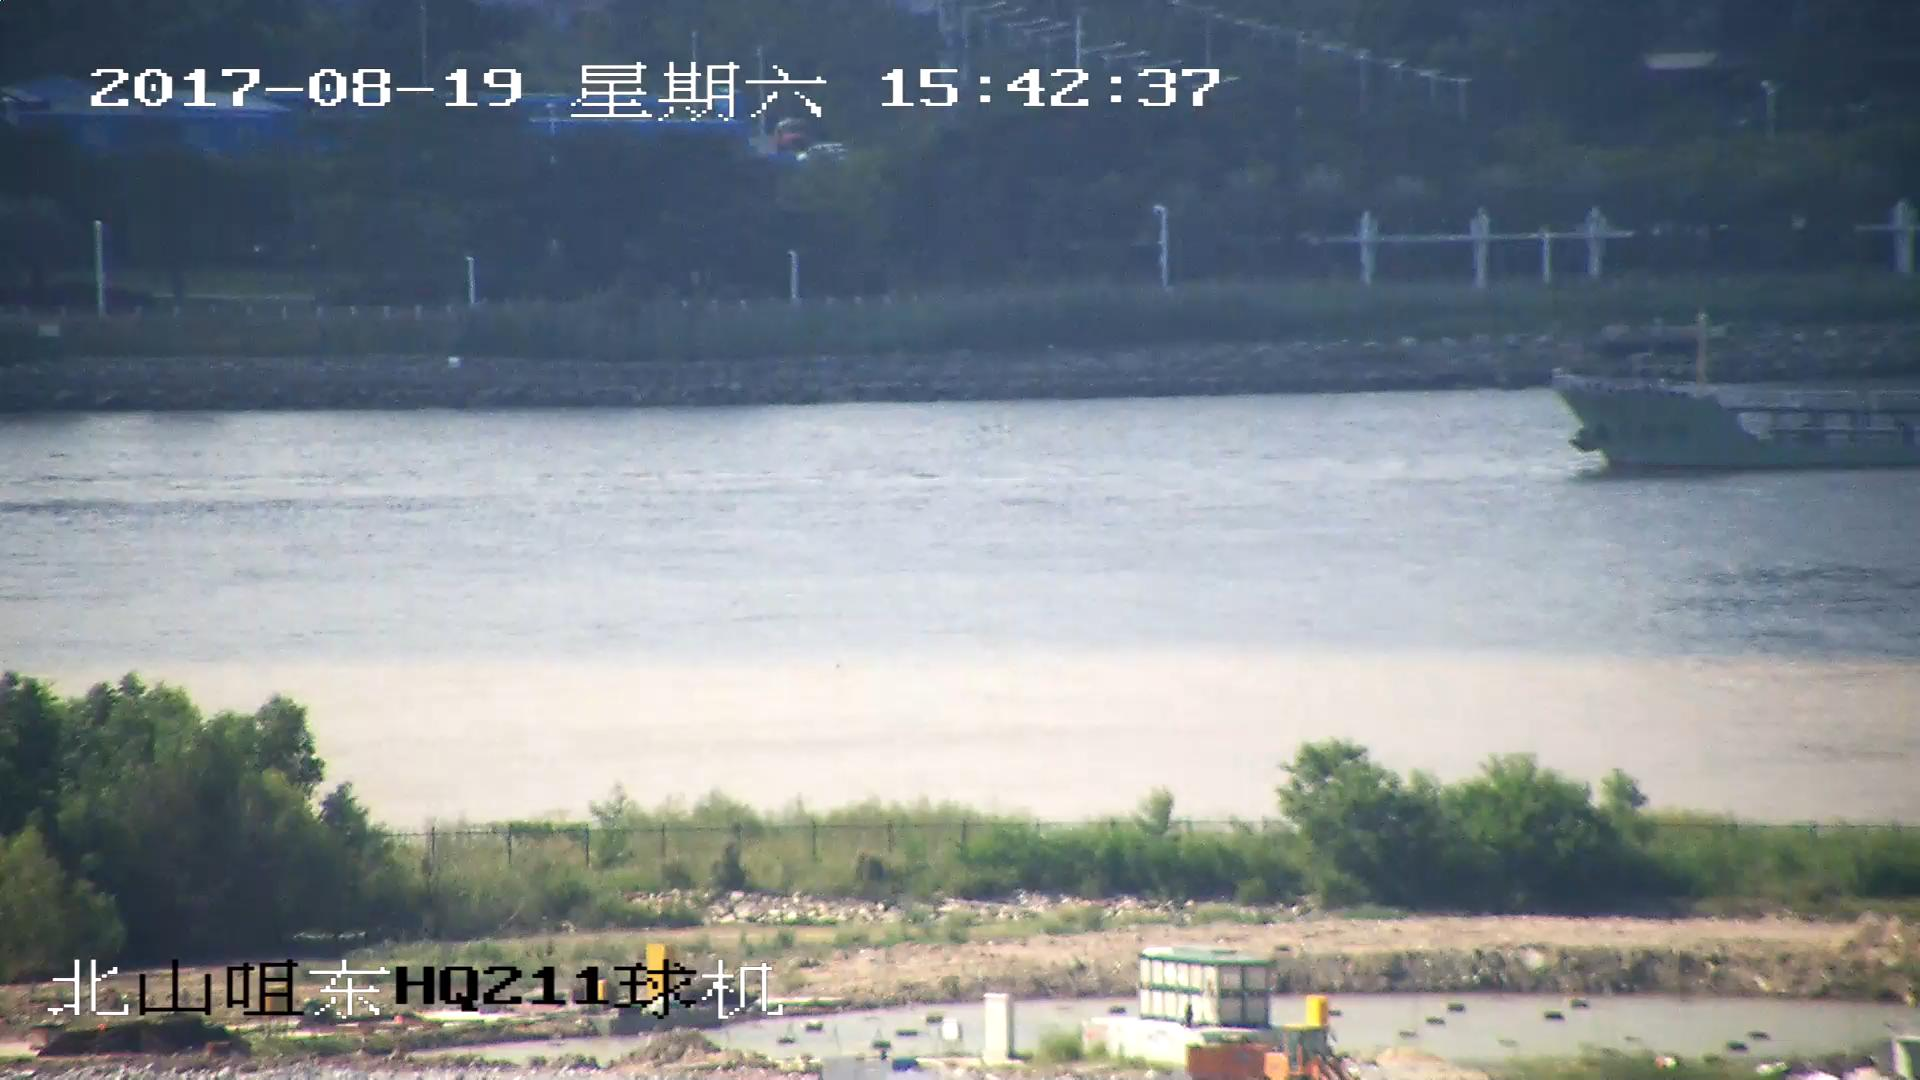general cargo ship: (1551, 373, 1920, 469)
